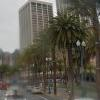Palm tree: (39, 8, 100, 90)
